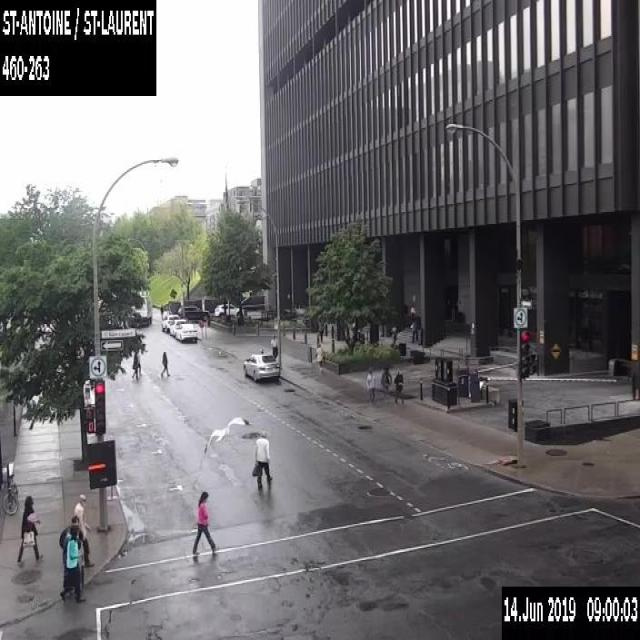pedestrian: (59, 524, 86, 604), (58, 515, 84, 595), (15, 494, 44, 565), (191, 490, 217, 554), (72, 493, 94, 566), (251, 429, 274, 488), (379, 364, 391, 404), (394, 367, 404, 405), (366, 366, 375, 405), (159, 350, 171, 377), (314, 342, 324, 372), (130, 350, 138, 379), (270, 332, 278, 358), (410, 319, 418, 342), (136, 347, 142, 374), (317, 325, 323, 341), (159, 303, 163, 317)
vehicle: (242, 349, 281, 382), (129, 288, 152, 326), (177, 304, 209, 321), (214, 302, 246, 316), (174, 323, 197, 341), (169, 318, 188, 336), (161, 313, 180, 331)
